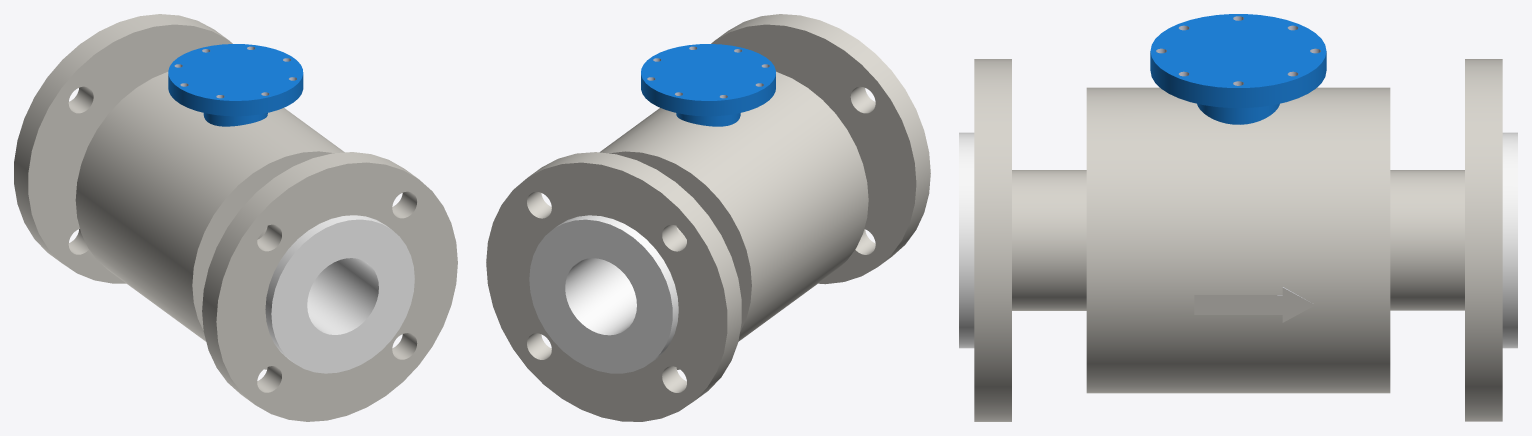
The model's file is Flow_Meter.glb.
3 renders of one model, left to right at view 1: azimuth 30°, elevation 25°; view 2: azimuth 150°, elevation 25°; view 3: azimuth 270°, elevation 25°, orthographic. The views are drawn at different scales.
Visible parts, largest first — view 1: Flow_Meter; view 2: Flow_Meter; view 3: Flow_Meter.
Boxes of the visible parts, x1=… form: Flow_Meter: x1=14, y1=14, x2=457, y2=421; Flow_Meter: x1=486, y1=14, x2=930, y2=421; Flow_Meter: x1=959, y1=14, x2=1517, y2=421.
Size of the model in its own units: 0.165 by 0.1774 by 0.254.
